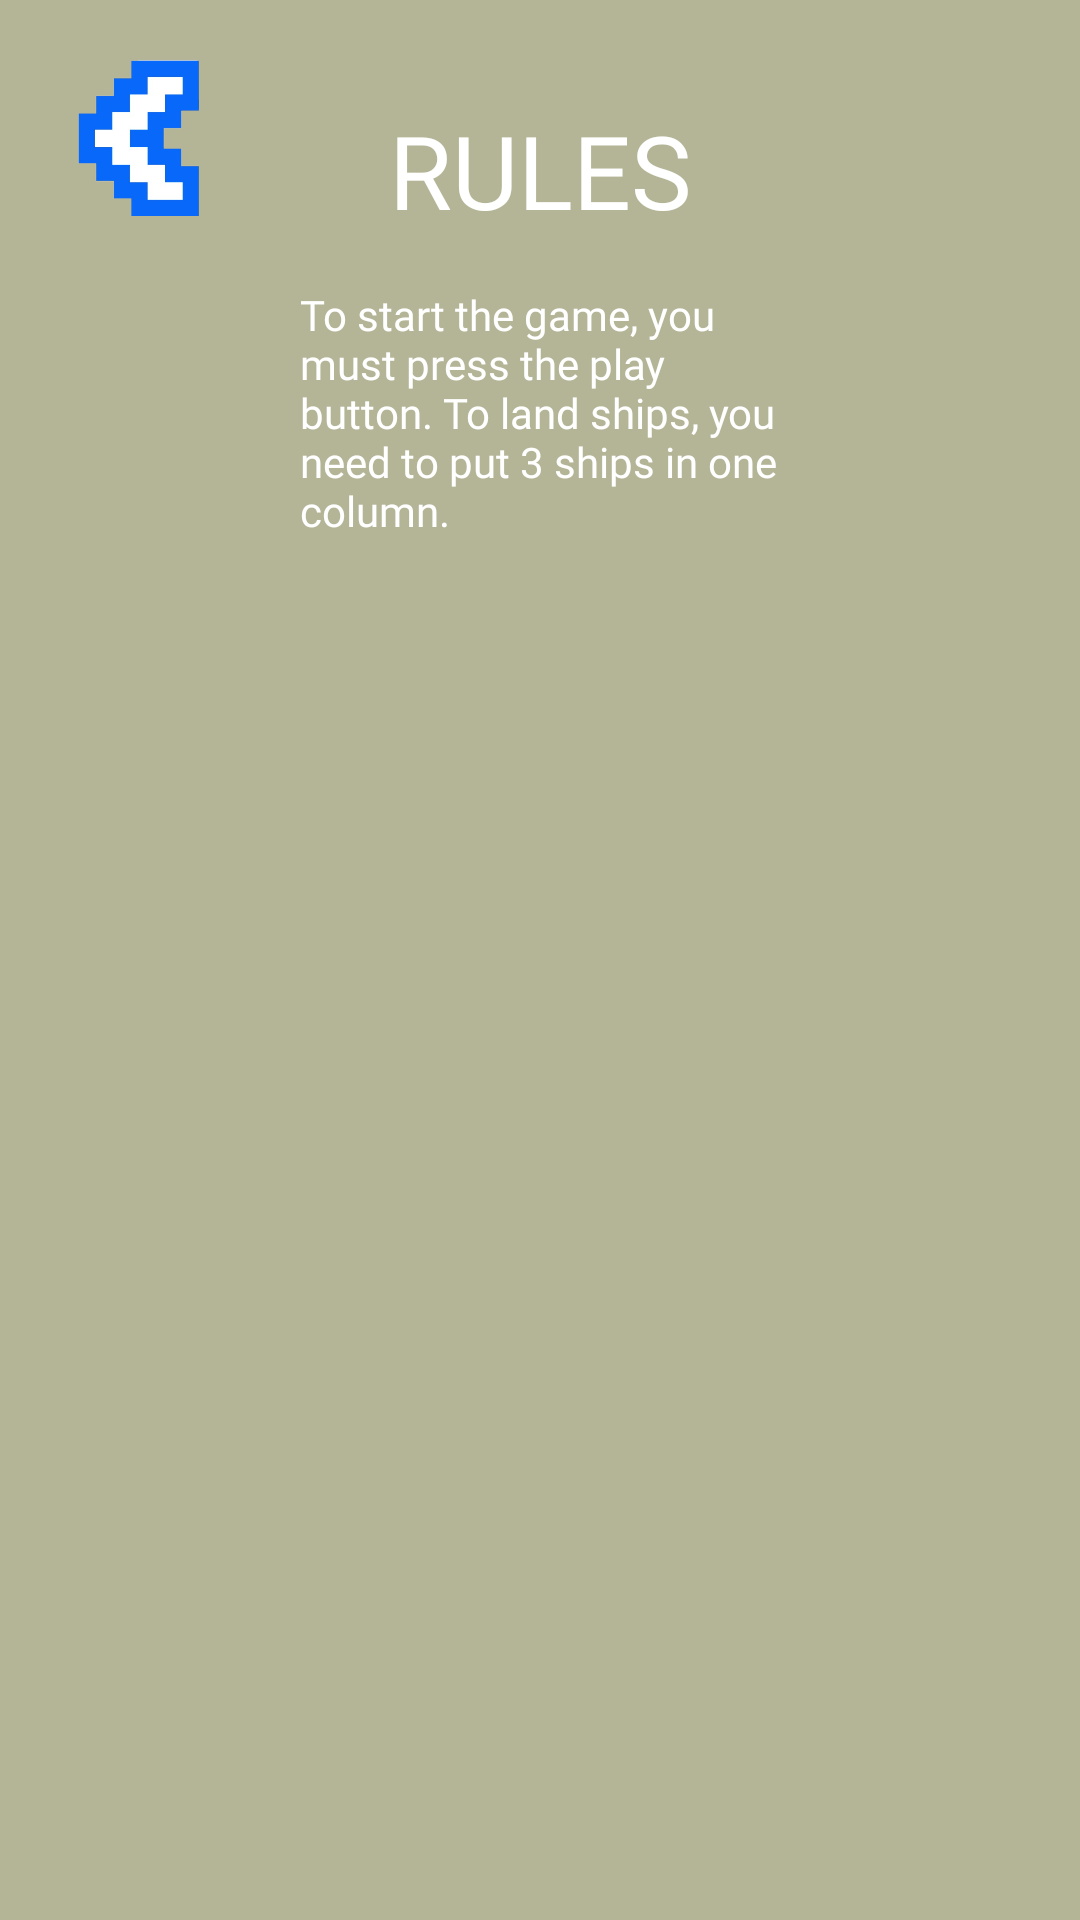

Icons on this 1080px x 1920px Android screen, each with its box as (x1, y1, x2, y2):
back play: (78, 60, 199, 216)
